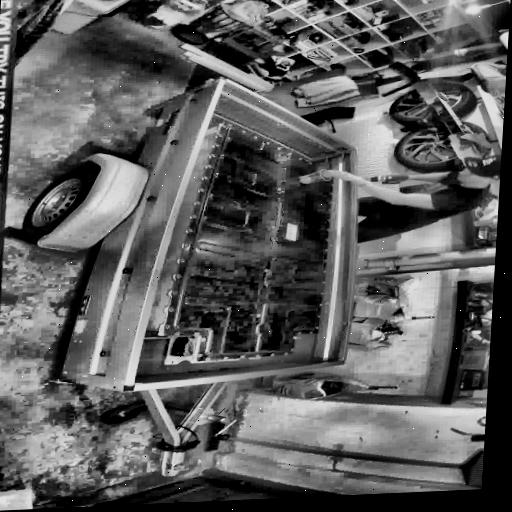b_casing: (161, 124, 337, 364)
